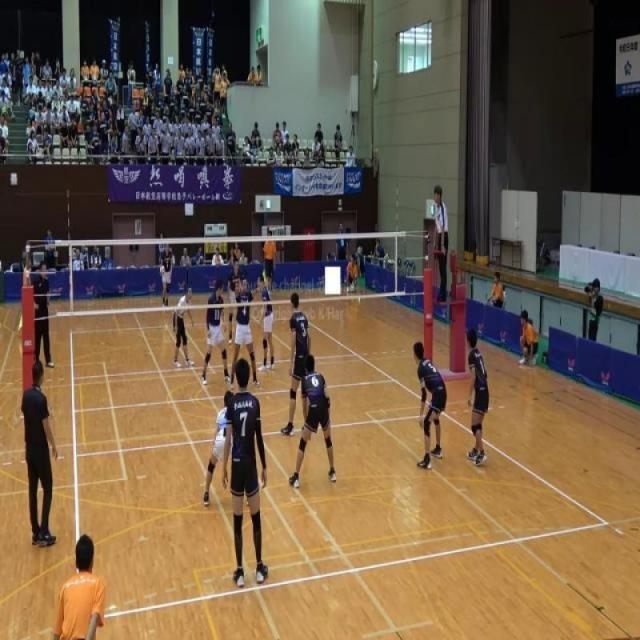volleyball: (159, 266, 166, 274), (350, 284, 355, 292)
